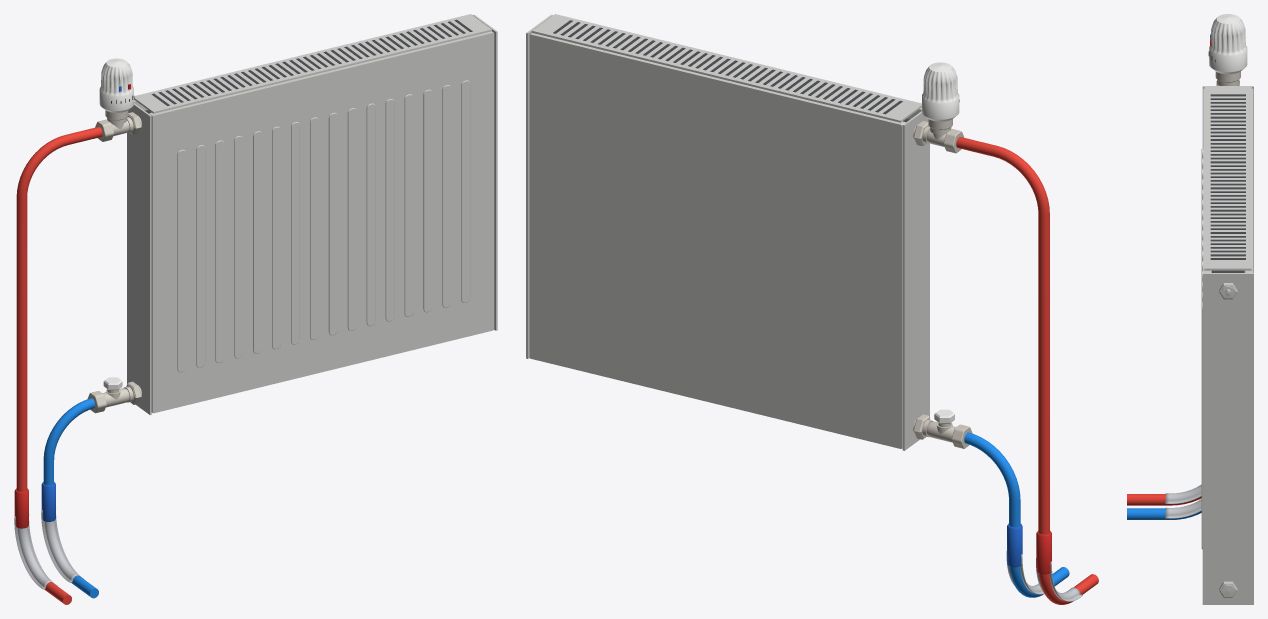
Rendered from panel_node_panel21_straight.glb.
The picture shows the model from 3 angles, left to right: view 1: azimuth 30°, elevation 25°; view 2: azimuth 150°, elevation 25°; view 3: azimuth 270°, elevation 25°; orthographic projection. The views are drawn at different scales.
Parts seen in each view (by area): view 1: панель, боковина, решётка, труба 16, риф.010, риф.013, риф, риф.008, риф.011, риф.012, риф.001, риф.009 (+13 smaller); view 2: панель.001, боковина, решётка, труба 16, труба 16.001, термоголовка, боковина.001; view 3: боковина.001, решётка, термоголовка, панель.001, труба 16, труба 16.001, риф.015, фиксатор 90.001, фиксатор 90, панель, боковина, гайка термоголовки.
Boxes of the visible parts, x1=… form: панель: x1=149, y1=31, x2=494, y2=413; боковина: x1=127, y1=103, x2=151, y2=414; решётка: x1=134, y1=14, x2=491, y2=113; труба 16: x1=16, y1=127, x2=102, y2=604; риф.010: x1=366, y1=103, x2=375, y2=326; риф.013: x1=423, y1=89, x2=432, y2=312; риф: x1=177, y1=149, x2=186, y2=372; риф.008: x1=328, y1=112, x2=337, y2=335; риф.011: x1=385, y1=99, x2=394, y2=321; риф.012: x1=404, y1=94, x2=413, y2=316; риф.001: x1=196, y1=145, x2=205, y2=367; риф.009: x1=347, y1=108, x2=356, y2=330; панель.001: x1=529, y1=33, x2=905, y2=448; боковина: x1=902, y1=111, x2=929, y2=450; решётка: x1=532, y1=14, x2=921, y2=122; труба 16: x1=956, y1=137, x2=1098, y2=604; труба 16.001: x1=964, y1=432, x2=1069, y2=597; термоголовка: x1=922, y1=62, x2=959, y2=121; боковина.001: x1=526, y1=14, x2=552, y2=358; боковина.001: x1=1202, y1=273, x2=1253, y2=604; решётка: x1=1204, y1=86, x2=1251, y2=270; термоголовка: x1=1209, y1=14, x2=1247, y2=74; панель.001: x1=1245, y1=88, x2=1253, y2=272; труба 16: x1=1127, y1=494, x2=1201, y2=505; труба 16.001: x1=1127, y1=508, x2=1201, y2=519; риф.015: x1=1201, y1=302, x2=1202, y2=549; фиксатор 90.001: x1=1165, y1=499, x2=1201, y2=518; фиксатор 90: x1=1165, y1=484, x2=1201, y2=503; панель: x1=1203, y1=88, x2=1211, y2=272; боковина: x1=1202, y1=86, x2=1253, y2=272; гайка термоголовки: x1=1215, y1=71, x2=1240, y2=82.
Size of the model in its own units: 0.8368 by 0.8105 by 0.173.
